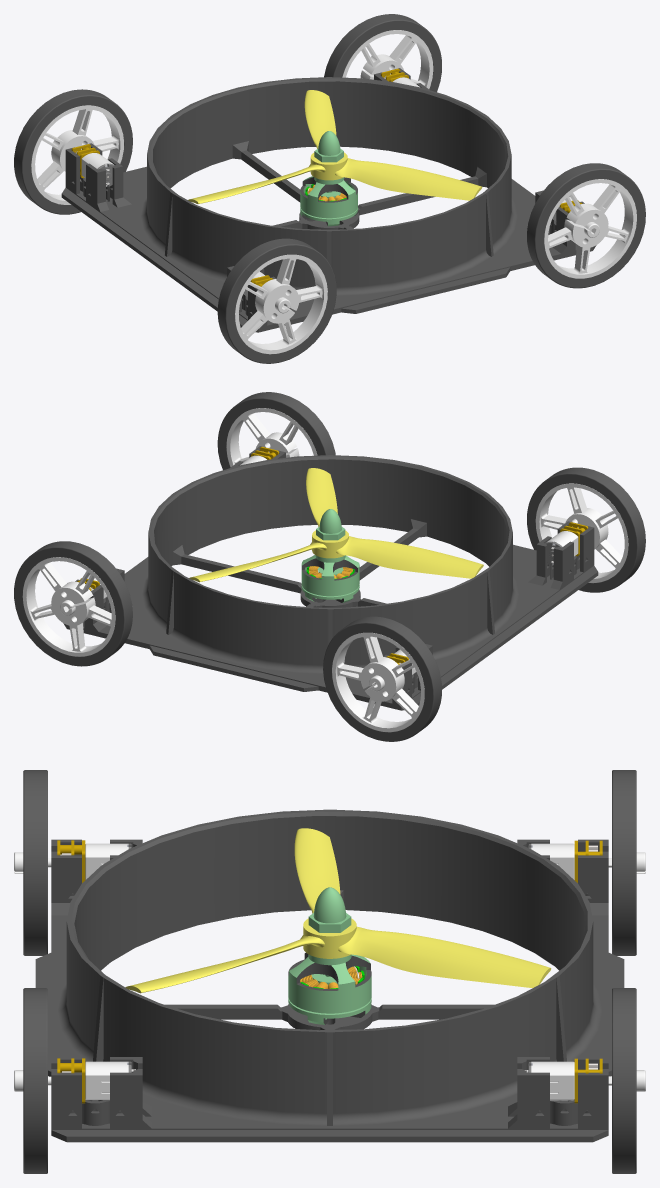
Rendered from MULTISTAR 6045 ASV.glb.
The picture shows the model from 3 angles, top to bottom: view 1: azimuth 30°, elevation 25°; view 2: azimuth 150°, elevation 25°; view 3: azimuth 270°, elevation 25°; orthographic projection. The views are drawn at different scales.
Parts seen in each view (by area): view 1: MULTISTAR 6045 ASV; view 2: MULTISTAR 6045 ASV; view 3: MULTISTAR 6045 ASV.
Part boxes in pixels (x1,y1,x2,y2): MULTISTAR 6045 ASV: (14,14,645,363); MULTISTAR 6045 ASV: (14,392,645,741); MULTISTAR 6045 ASV: (14,770,645,1173).
Bounding box in the file's own units: 0.2265 × 0.06 × 0.204.
